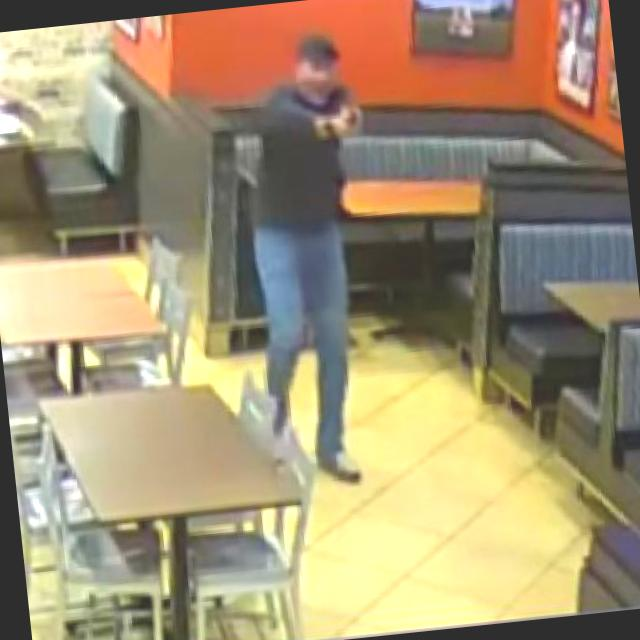Person: (217, 19, 403, 511)
